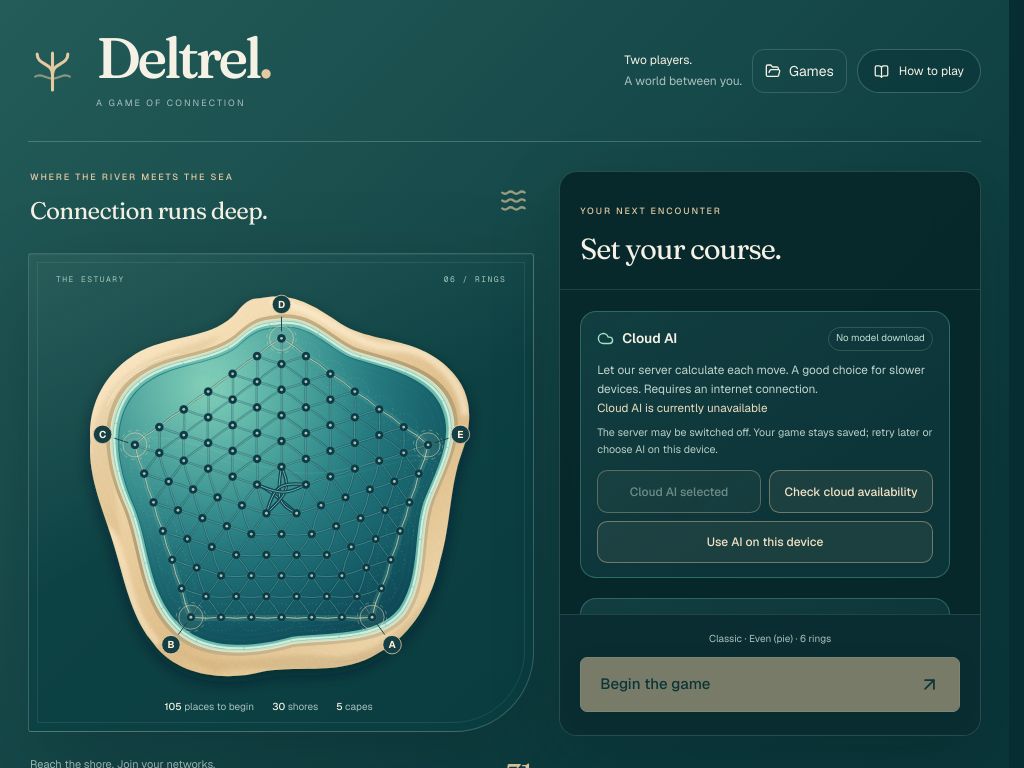
Test case: SetupScreen › retains a saved offline cloud seat and allows an explicit availability retry
Expected: the text "Cloud AI is currently unavailable" is shown, [597,400,768,415]
Expected: the button "Begin the game" is disabled, [580,657,960,712]
Click the button "Check cloud availability": [851, 492] box [769,470,933,513]
(page scrolled)
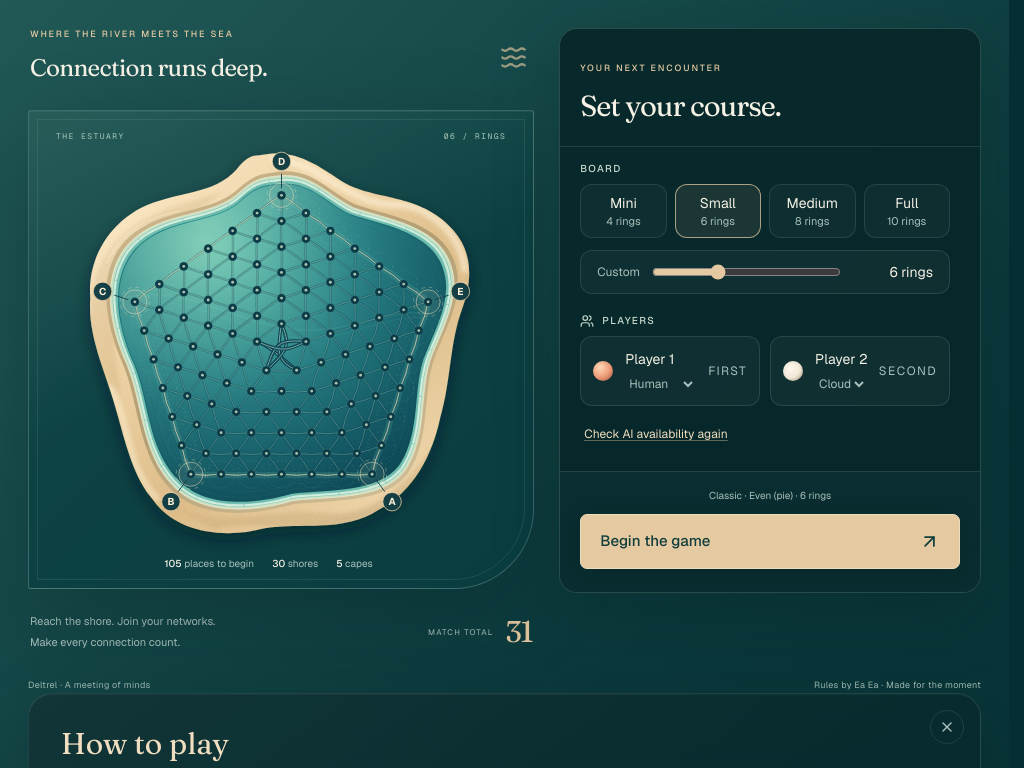
Expected: the button "Begin the game" is enabled, [580,514,960,569]
Expected: the dropdown named "Player 2 controller" shows "Cloud AI", [815,375,867,393]
